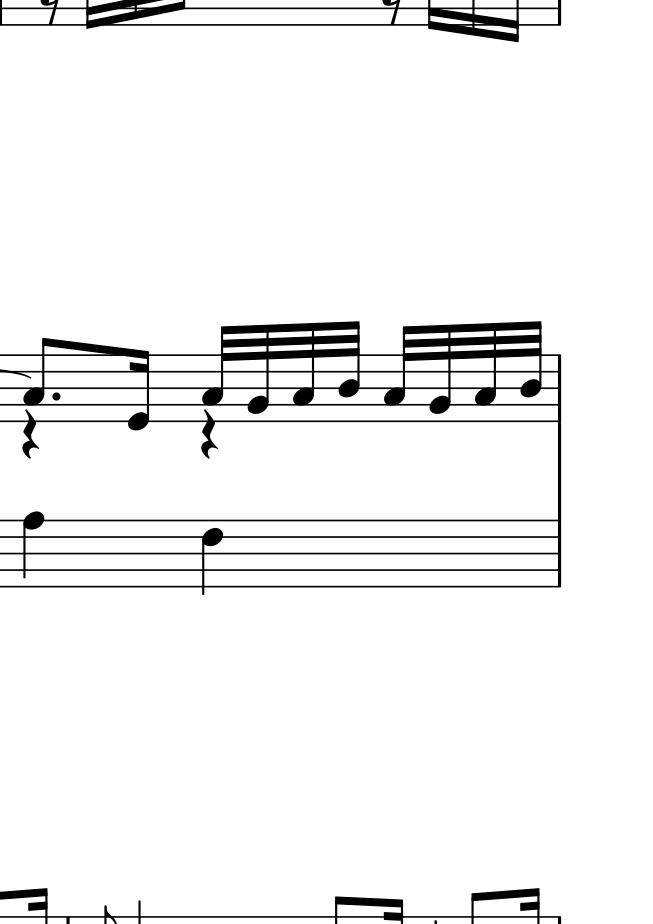16_0: (125, 348, 152, 433)
32_2: (428, 322, 453, 425), (246, 323, 270, 423)
32_3: (382, 324, 413, 424), (200, 324, 231, 422), (473, 321, 499, 424), (291, 321, 316, 424)
32_4: (336, 319, 362, 425), (519, 319, 544, 425)
4_6: (199, 517, 223, 596)
4_8: (20, 510, 45, 589)
8_3: (23, 333, 57, 423)
Rests4: (199, 410, 218, 462), (21, 407, 38, 461)
Single_barline: (551, 521, 566, 586), (552, 355, 566, 421)
dot: (48, 388, 63, 403)
